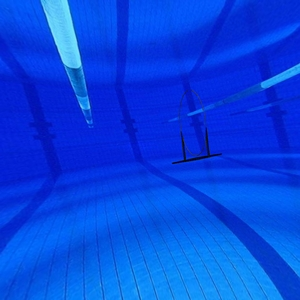circle: (170, 88, 225, 165)
